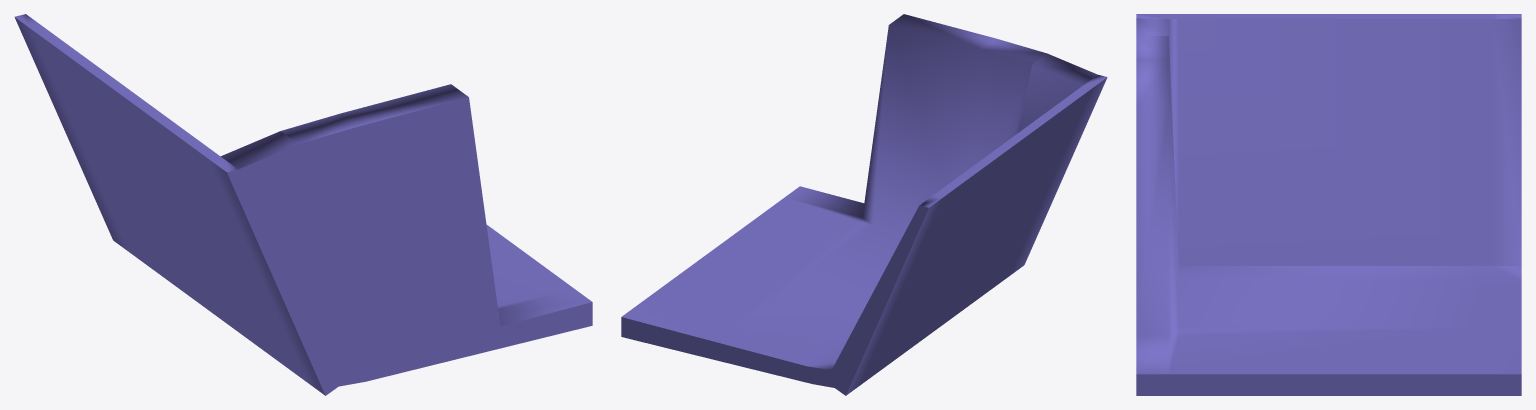
The model's file is SideStand_R.fbx.
3 views of the same model, side by side, from view 1: azimuth 30°, elevation 25°; view 2: azimuth 150°, elevation 25°; view 3: azimuth 270°, elevation 25° (orthographic). The views are drawn at different scales.
Visible parts, largest first — view 1: SideStand1; view 2: SideStand1; view 3: SideStand1.
Part boxes in pixels (x1,y1,x2,y2): SideStand1: [14, 14, 592, 395]; SideStand1: [621, 14, 1107, 395]; SideStand1: [1136, 14, 1521, 395].
Bounding box in the file's own units: 2660 × 1833 × 2676.
